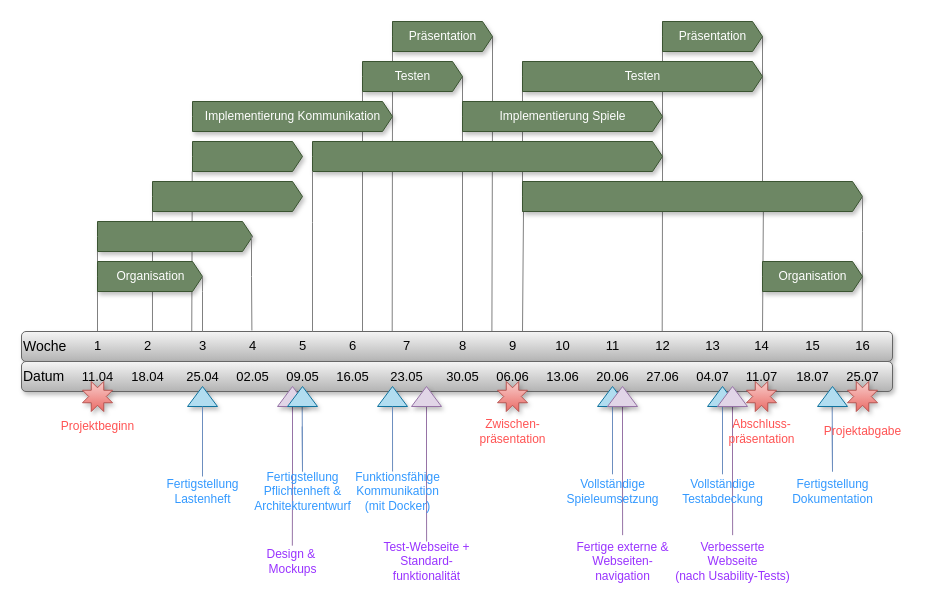
This 936x609 diagram has some shape labels left out. The centre of each missing label's shape, as x and y in pixels:
Dokumentation: the point at 693,197
Entwurf: the point at 228,197
Implementierung Webseite: the point at 488,157
Recherche: the point at 175,237
Webseitendesign: the point at 248,157
